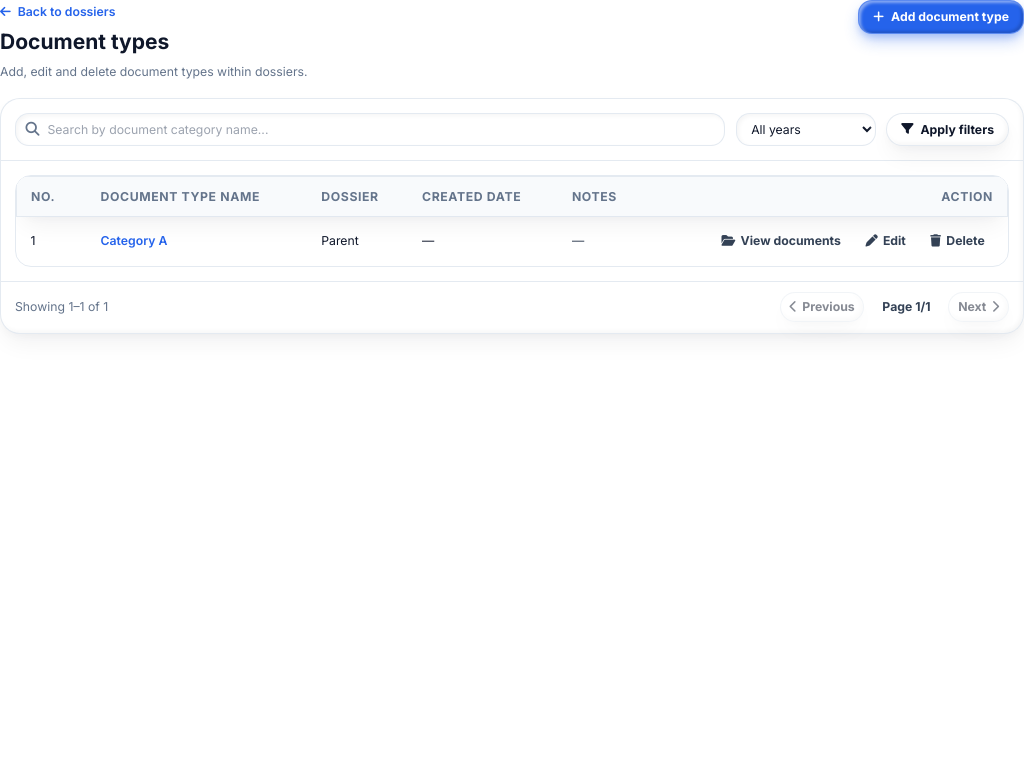
DocumentTypesPage shared-list handoff › creates a trimmed type with the selected dossier and reloads the catalog
The width and height of the screenshot is (1024, 768).
Step 1. Click the button "Add document type" → (941, 17), box [858,0,1023,34]
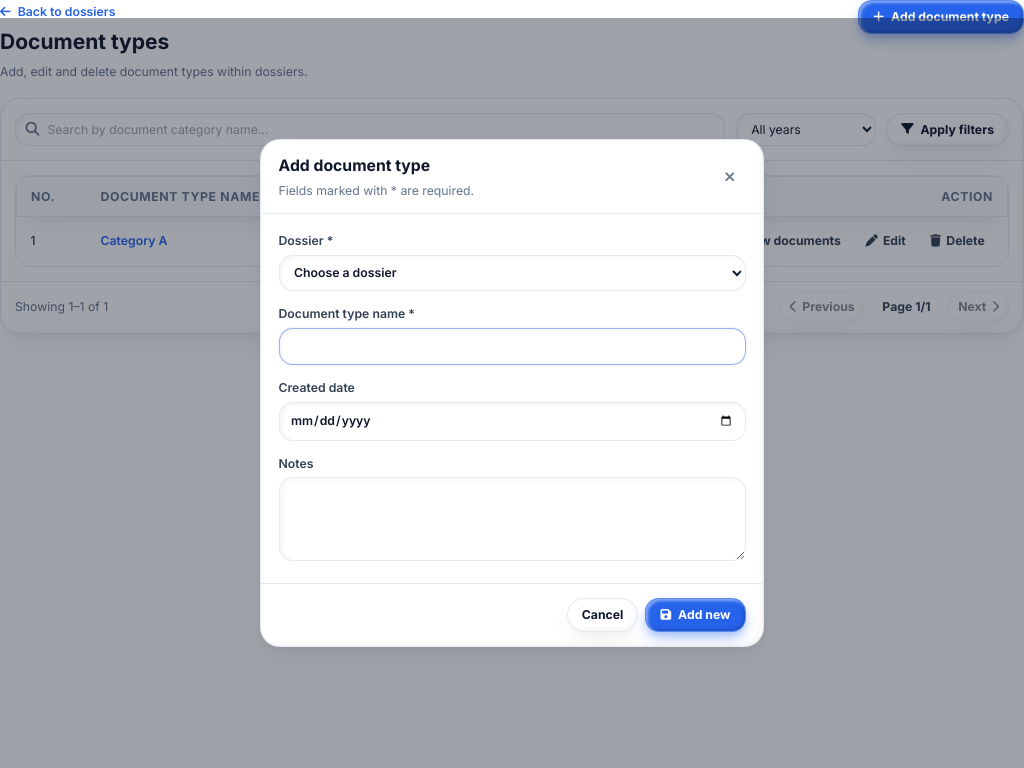
Check: the dropdown labelled "Dossier *" is enabled, box [278,254,746,291]
Step 2. Type "  New category  " into the field labelled "Document type name *" → (512, 346), box [278,328,746,365]
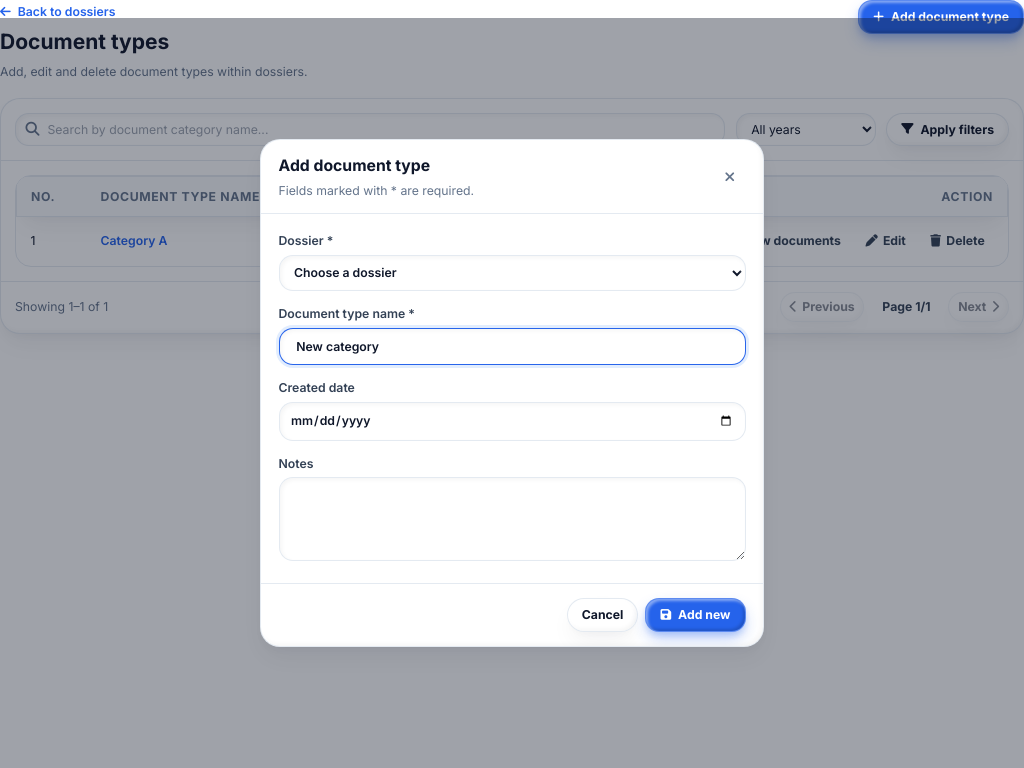
Step 3. Submit the dialog, box [260,139,764,647]
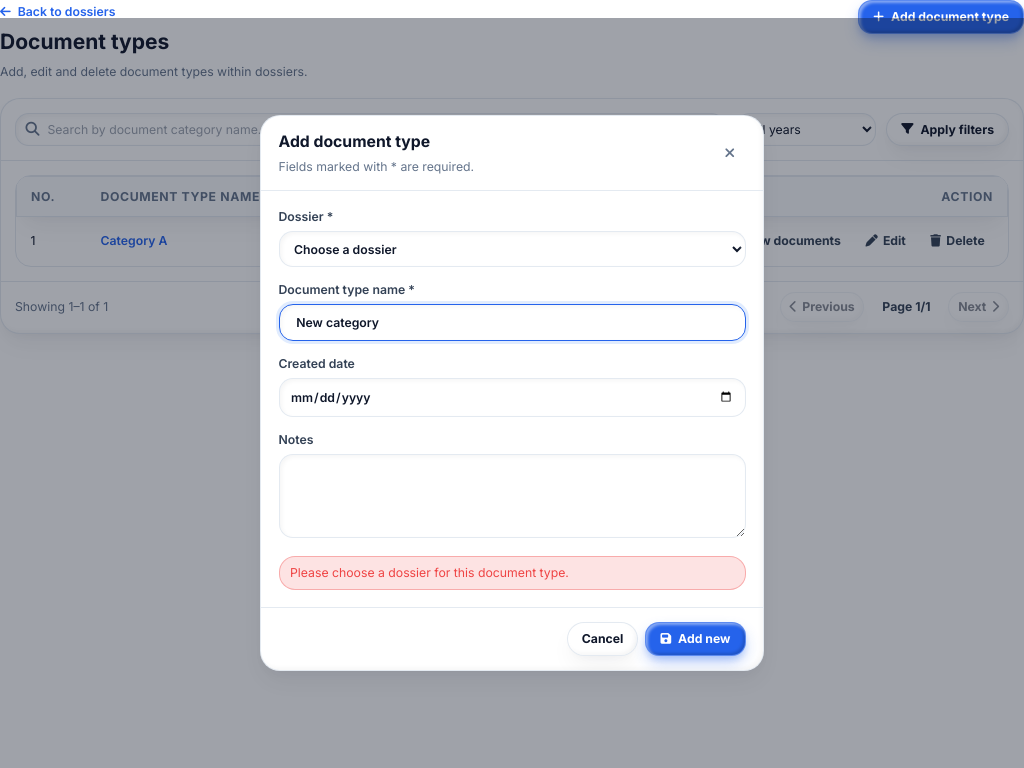
Check: the message shows "Please choose a dossier", box [290,565,569,580]
Step 4. Select "HS — Parent" in the dropdown labelled "Dossier *" → (512, 249), box [278,231,746,267]
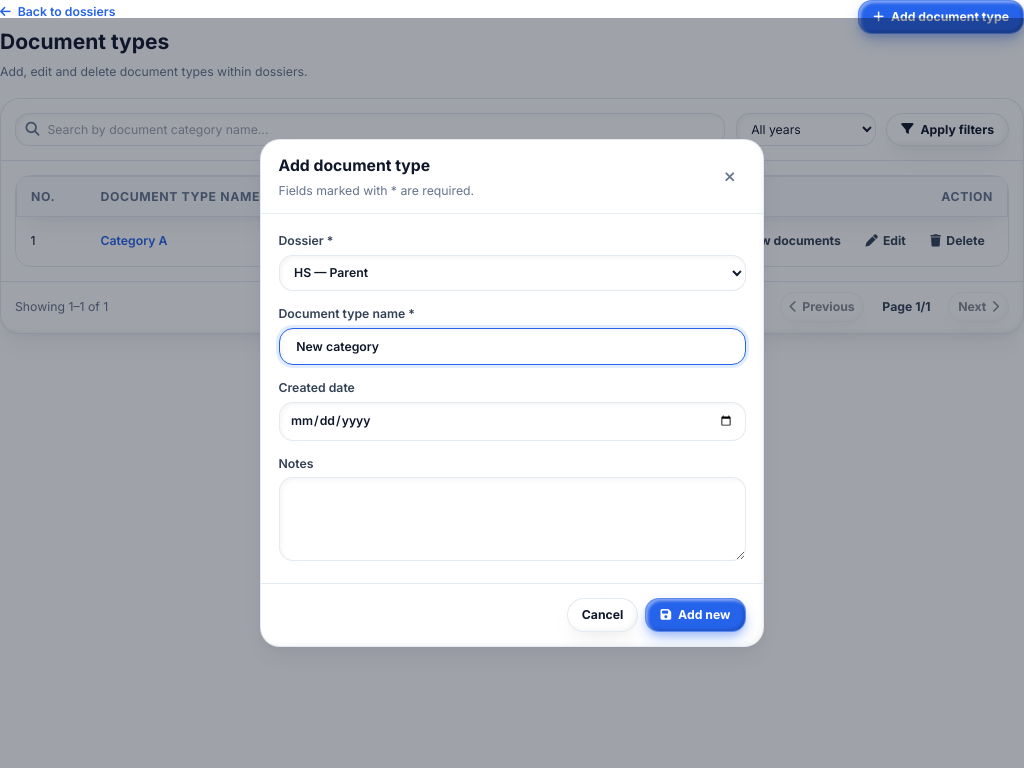
Step 5. Submit the dialog, box [260,139,764,647]
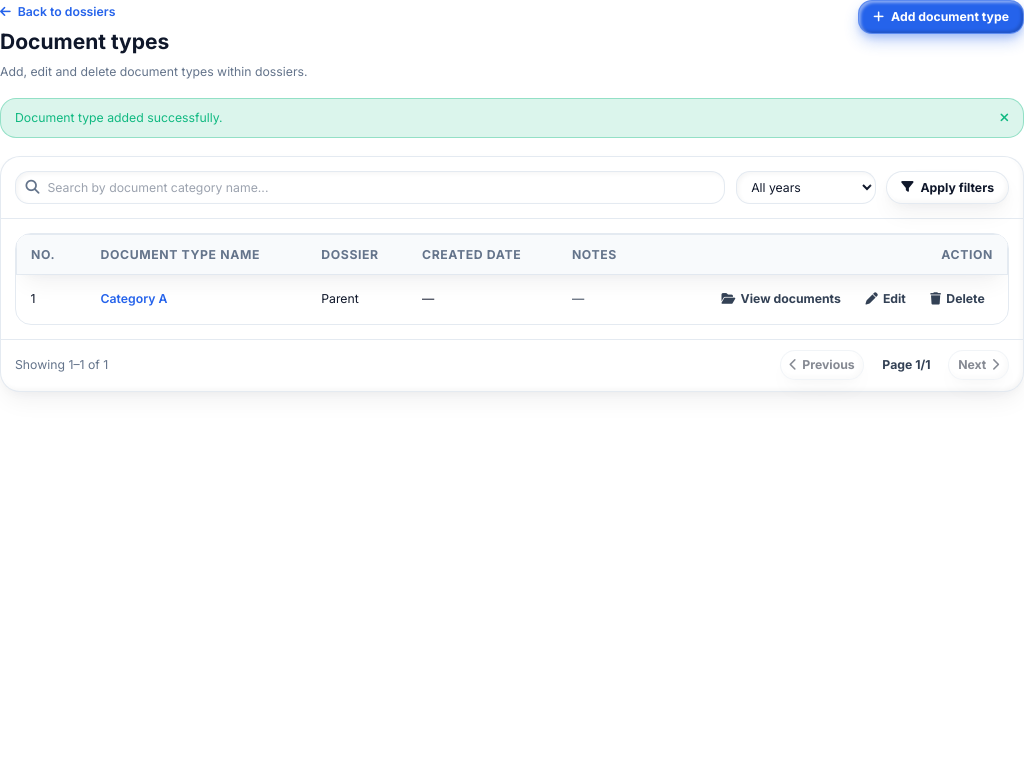
Check: the message reads "Document type added successfully.", box [15,110,223,125]
Check: the dialog is gone
